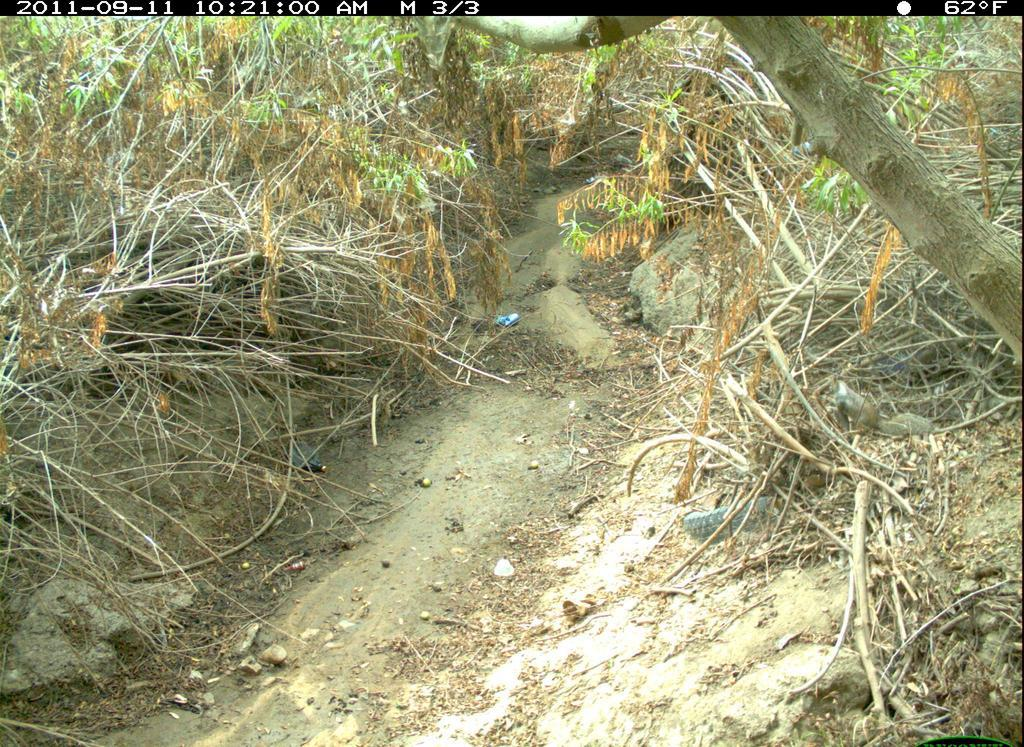squirrel: (808, 361, 952, 466)
